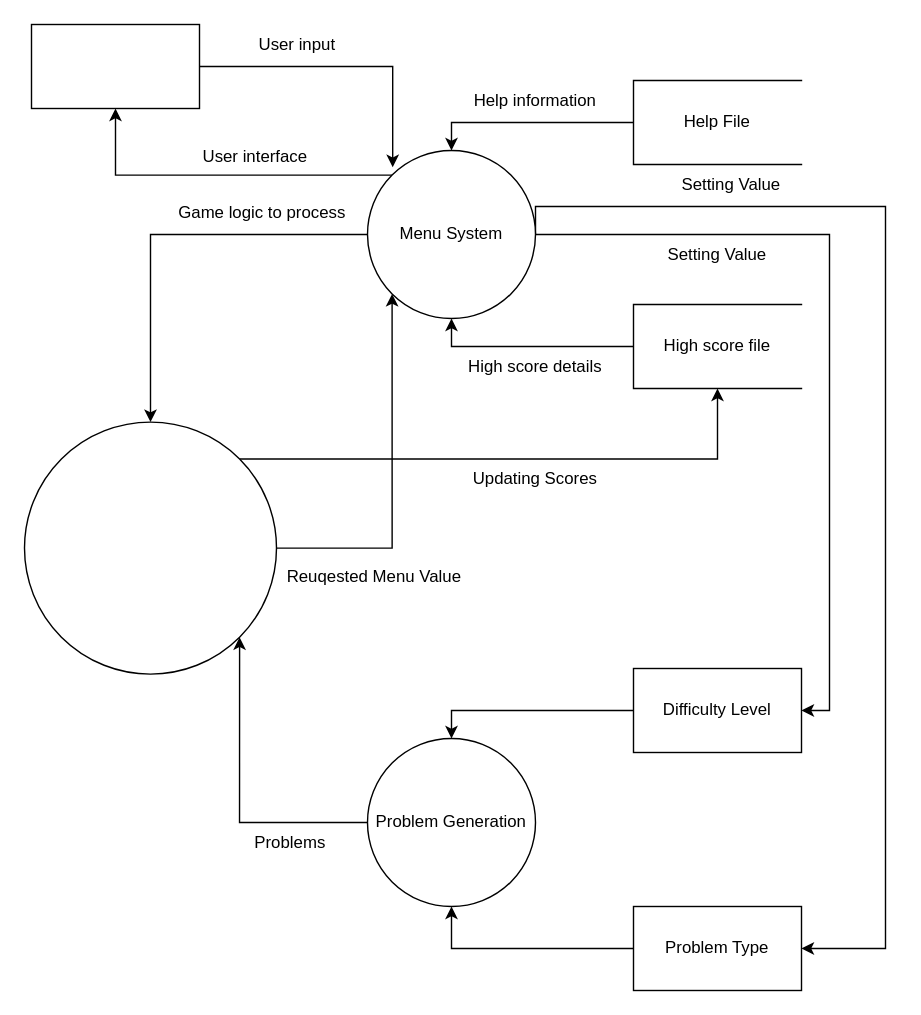
This 921x1015 diagram has some shape labels left out. Each missing label, with the box of its shape:
Times Table Game: (23, 421, 276, 674)
User: (30, 23, 200, 108)
